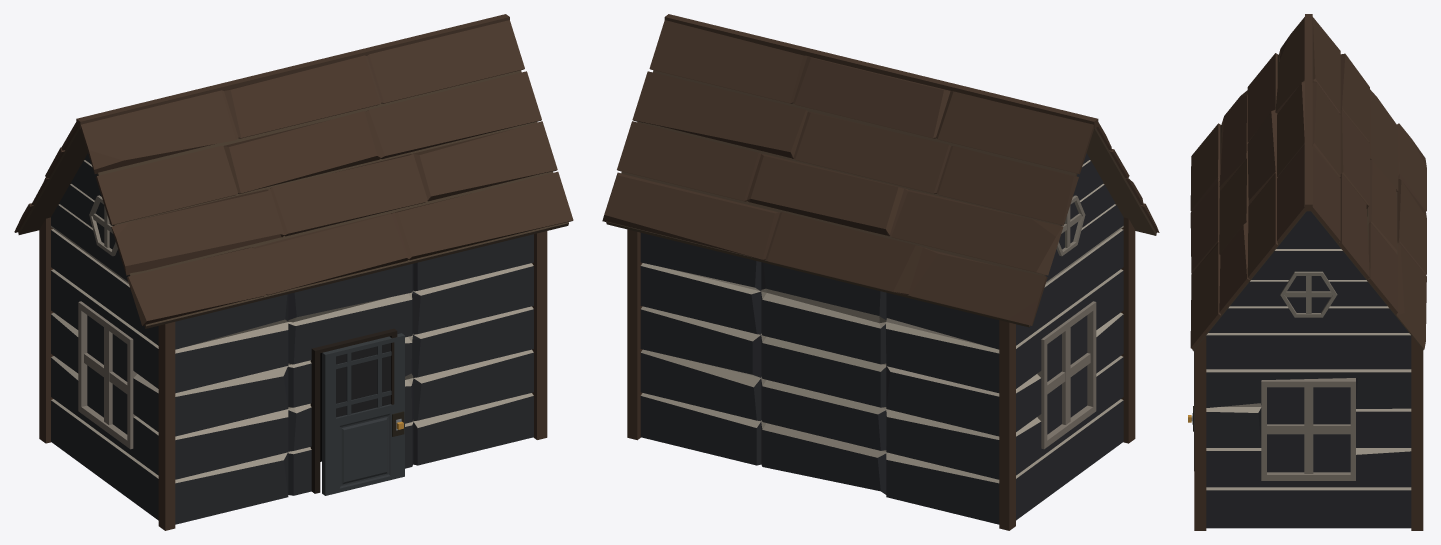
File: SM_House_01_C.gltf
3 renders of one model, left to right at view 1: azimuth 30°, elevation 25°; view 2: azimuth 150°, elevation 25°; view 3: azimuth 270°, elevation 25°, orthographic. The views are drawn at different scales.
Parts seen in each view (by area): view 1: House_01_C, HouseDoor_01_C; view 2: House_01_C; view 3: House_01_C.
Part boxes in pixels (x1,y1,x2,y2): House_01_C: [14, 14, 573, 530]; HouseDoor_01_C: [322, 333, 404, 495]; House_01_C: [602, 14, 1159, 530]; House_01_C: [1190, 14, 1426, 530].
Size of the model in its own units: 2.08 by 1.73 by 1.1.
